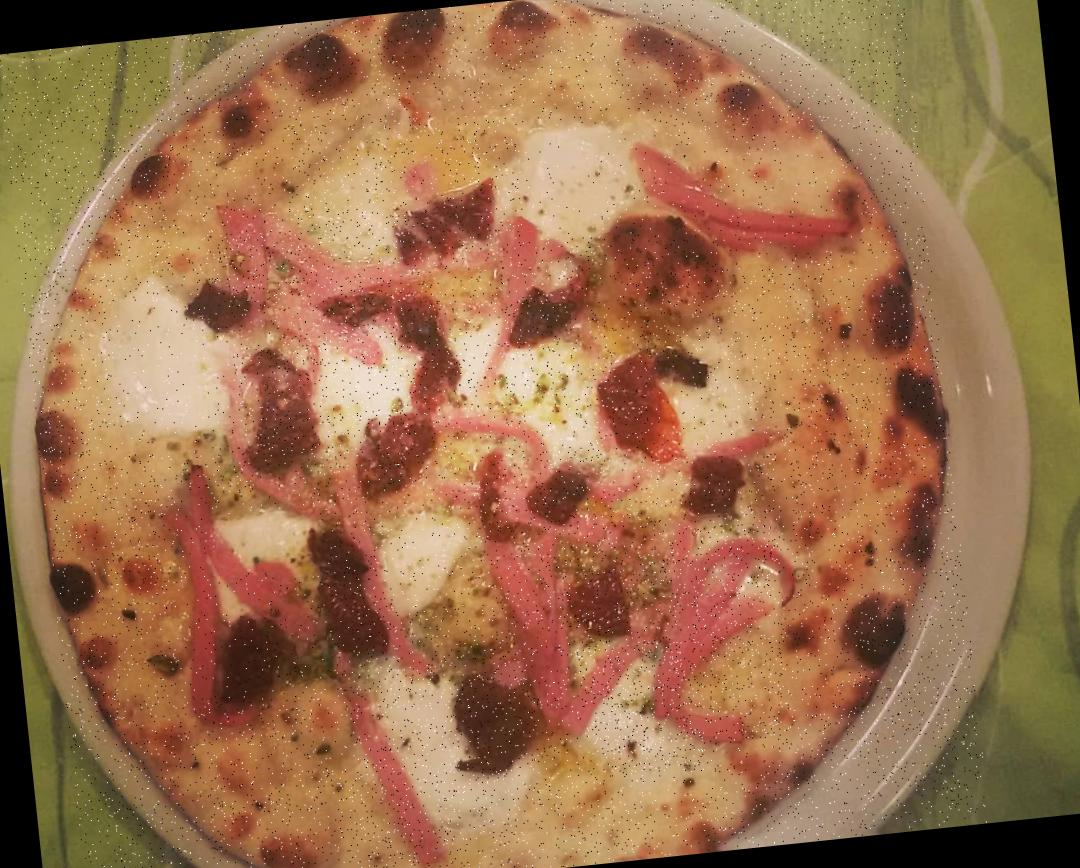Cheese: (366, 650, 520, 838), (105, 292, 244, 458), (578, 637, 708, 779), (515, 112, 649, 241), (648, 346, 756, 486), (312, 324, 422, 440), (371, 504, 477, 614), (448, 322, 546, 419), (208, 506, 326, 578)
Ham: (468, 463, 636, 724), (164, 486, 332, 702), (640, 118, 866, 274), (219, 200, 404, 379), (657, 510, 796, 747), (346, 680, 453, 868), (456, 218, 556, 390)
Pizza: (0, 0, 991, 868)
